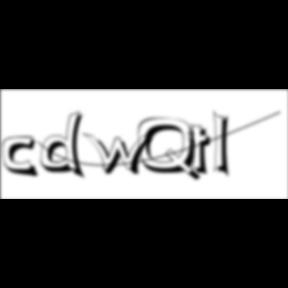Q: (138, 117, 204, 184)
c: (3, 136, 43, 180)
d: (41, 110, 91, 182)
l: (214, 108, 236, 182)
t: (188, 124, 218, 179)
w: (83, 132, 161, 178)
